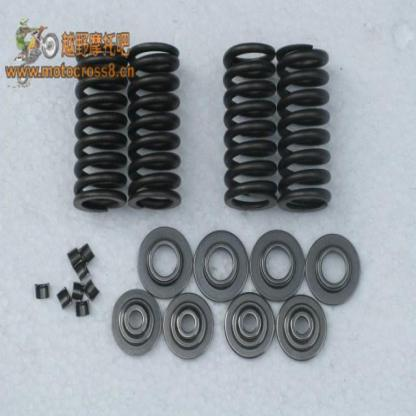FOD: (219, 41, 276, 216), (72, 40, 128, 213), (278, 39, 332, 213), (129, 38, 182, 213), (34, 279, 50, 300), (74, 298, 90, 319)
